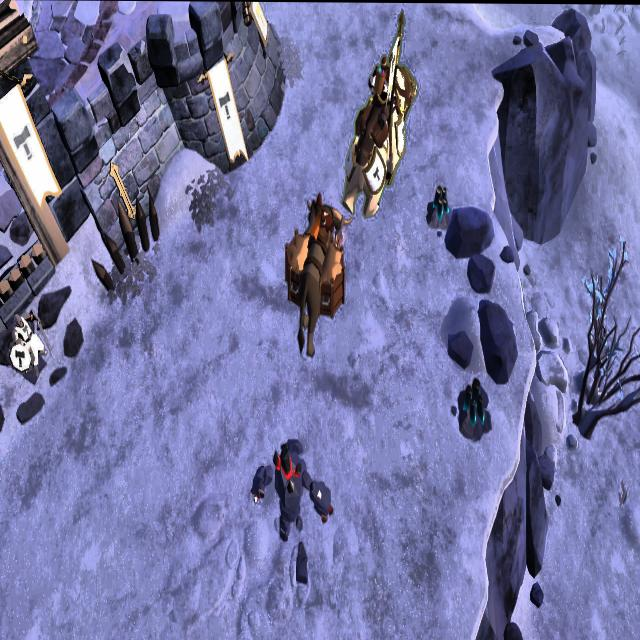ore_t4: (462, 375, 490, 428), (432, 183, 450, 221)
